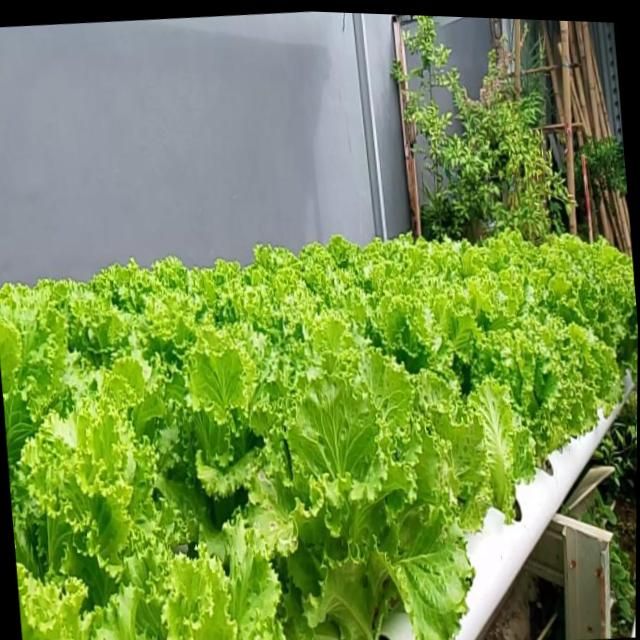Mature: (0, 212, 638, 640), (289, 335, 487, 630), (490, 256, 636, 471)
